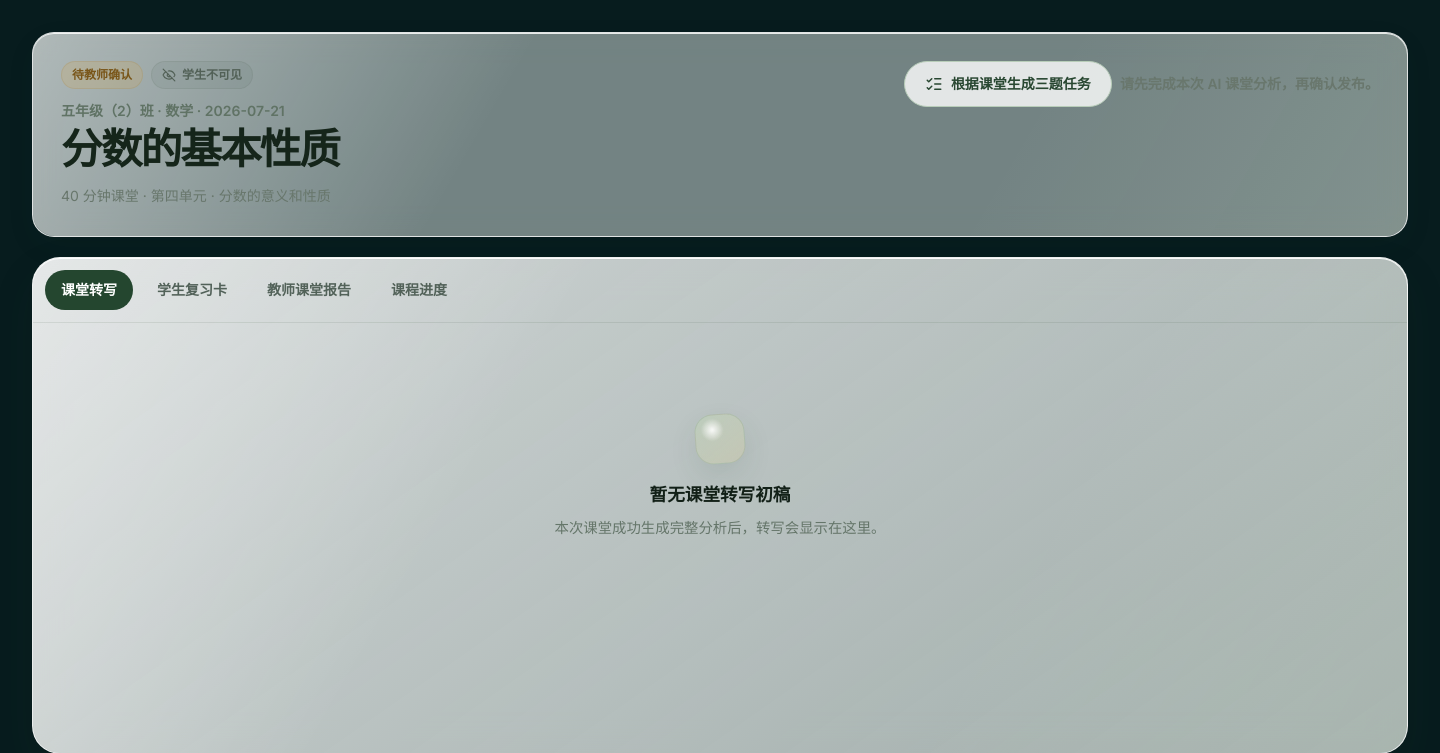
Test: LessonDetailPage › shows empty states in every tab instead of fixture content when no analysis ran
The width and height of the screenshot is (1440, 753).
Check: the heading "暂无课堂转写初稿" is shown, box [650,482,790,508]
Step 1. Click the tab "学生复习卡" → (192, 290), box [141,270,243,310]
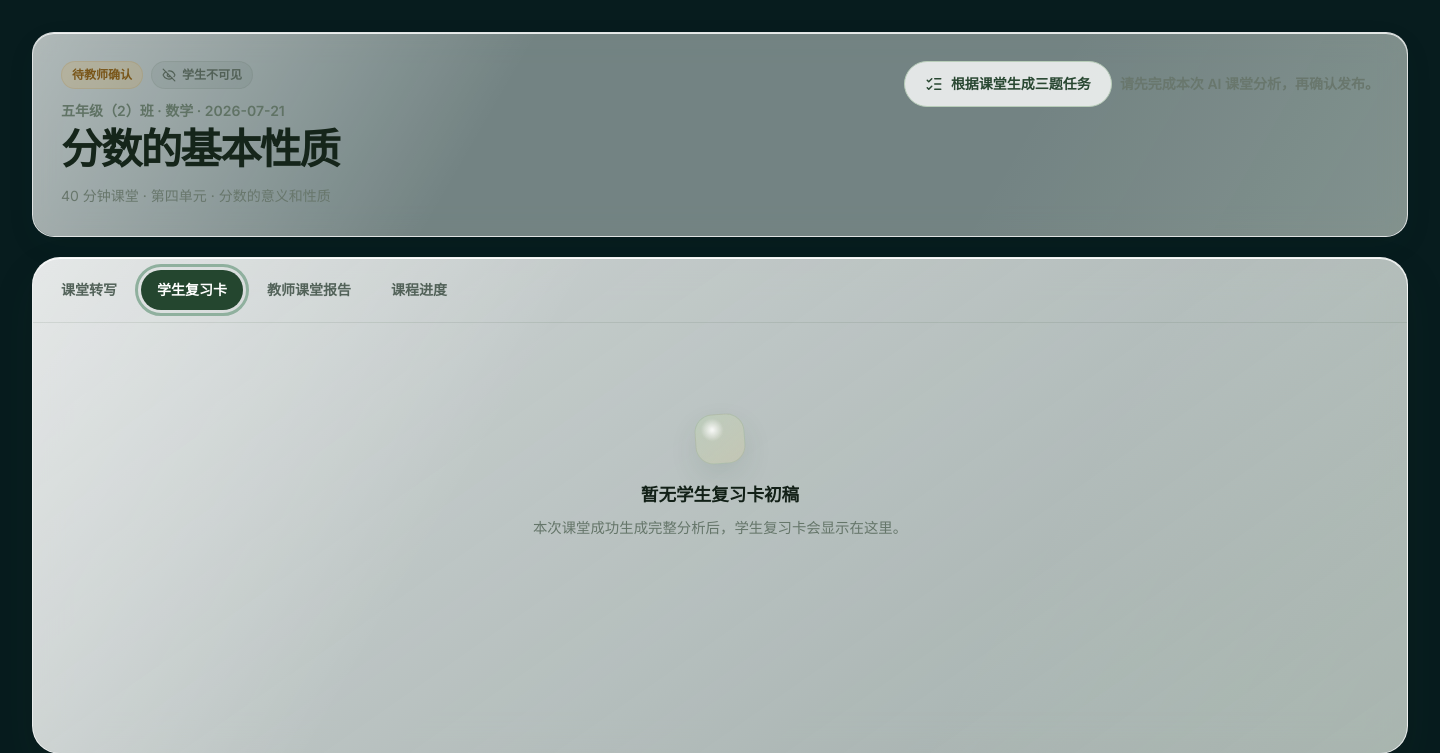
Check: the heading "暂无学生复习卡初稿" is shown, box [641,482,799,508]
Step 2. Click the tab "教师课堂报告" → (309, 290), box [251,270,367,310]
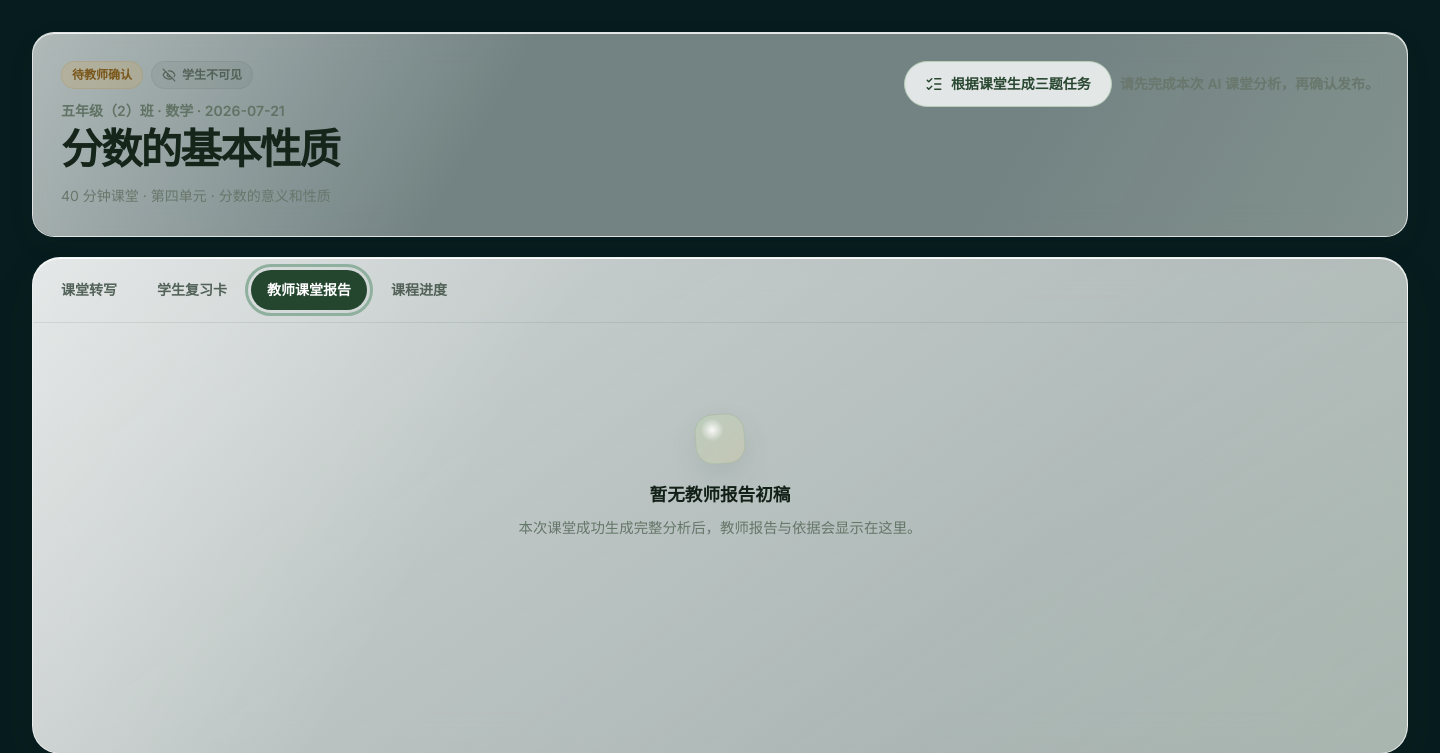
Check: the heading "暂无教师报告初稿" is shown, box [650,482,790,508]
Step 3. Click the tab "课程进度" → (419, 290), box [375,270,463,310]
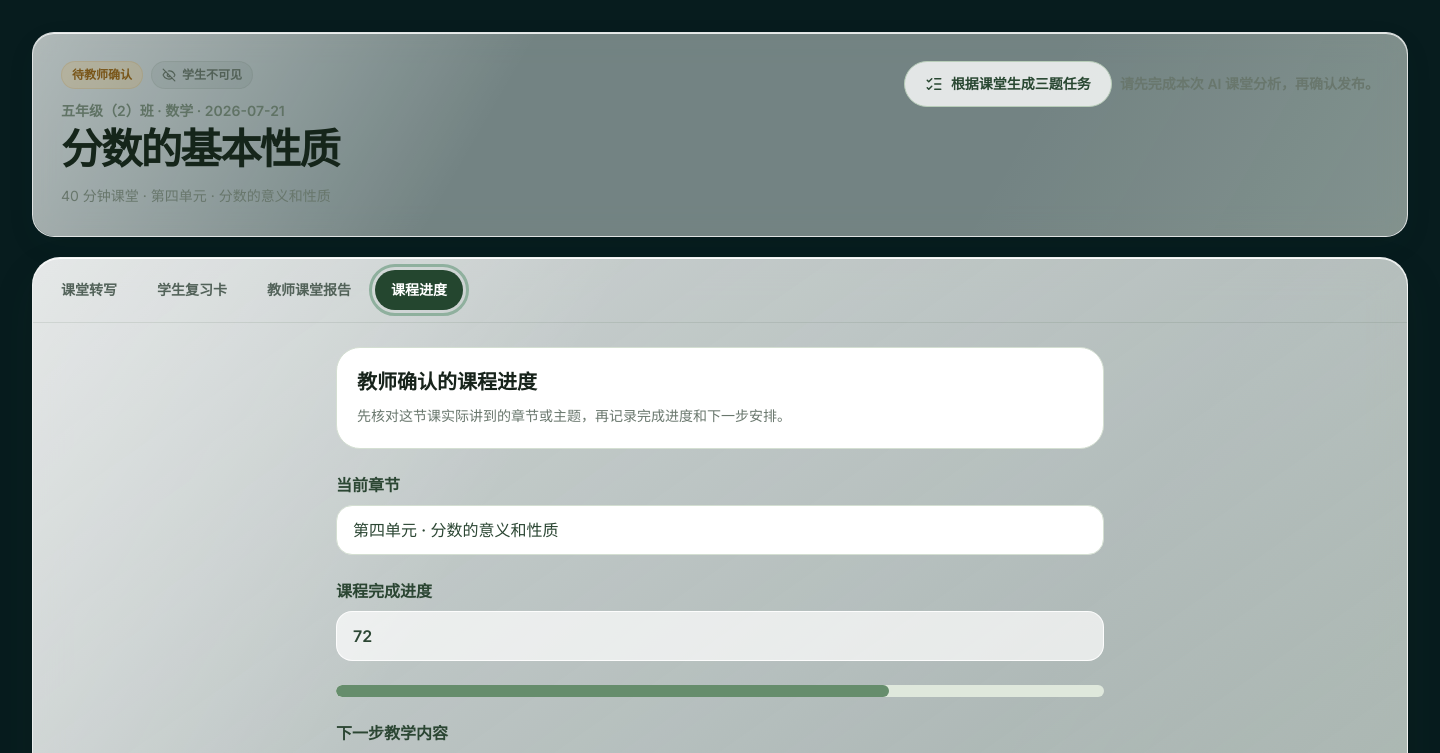
Check: the number field labelled "课程完成进度" holds "72", box [336,611,1104,661]
